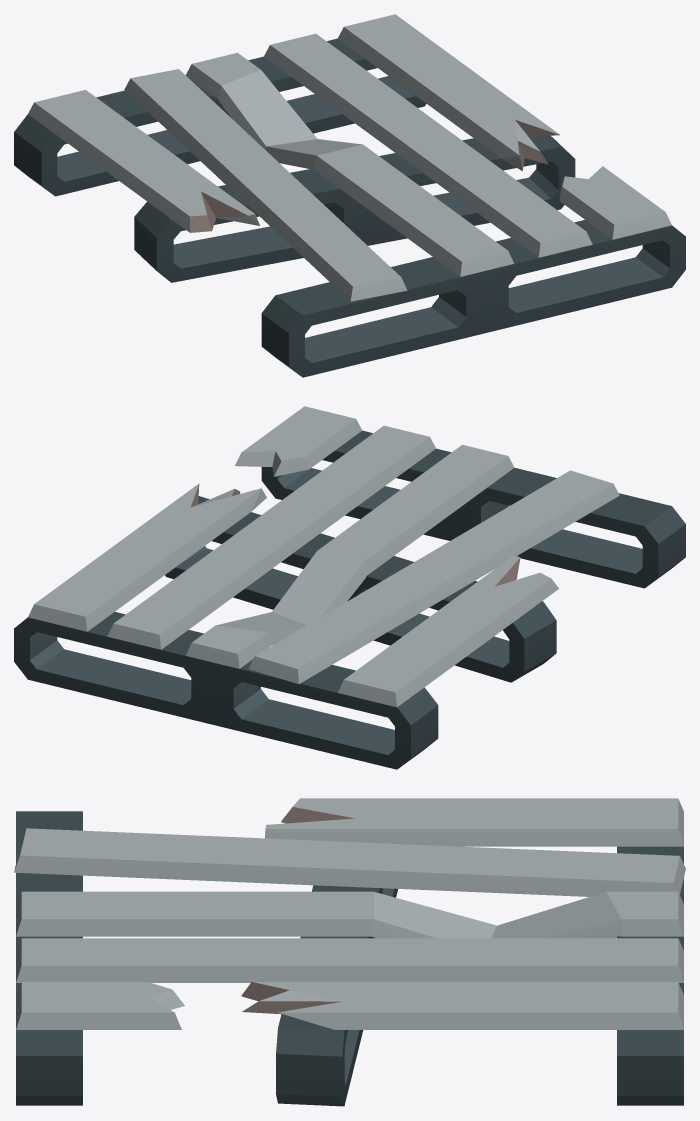
File: Pallete_02.glb
3 renders of one model, top to bottom at view 1: azimuth 30°, elevation 25°; view 2: azimuth 150°, elevation 25°; view 3: azimuth 270°, elevation 25°, orthographic. The views are drawn at different scales.
Parts seen in each view (by area): view 1: Pallete_02; view 2: Pallete_02; view 3: Pallete_02.
Boxes of the visible parts, left/top/right/bottom form: Pallete_02: left=14, top=14, right=685, bottom=377; Pallete_02: left=14, top=406, right=685, bottom=769; Pallete_02: left=14, top=798, right=685, bottom=1106.
Bounding box in the file's own units: 1.01 × 0.18 × 1.21.
Materials: 1 (1 with a texture image).
